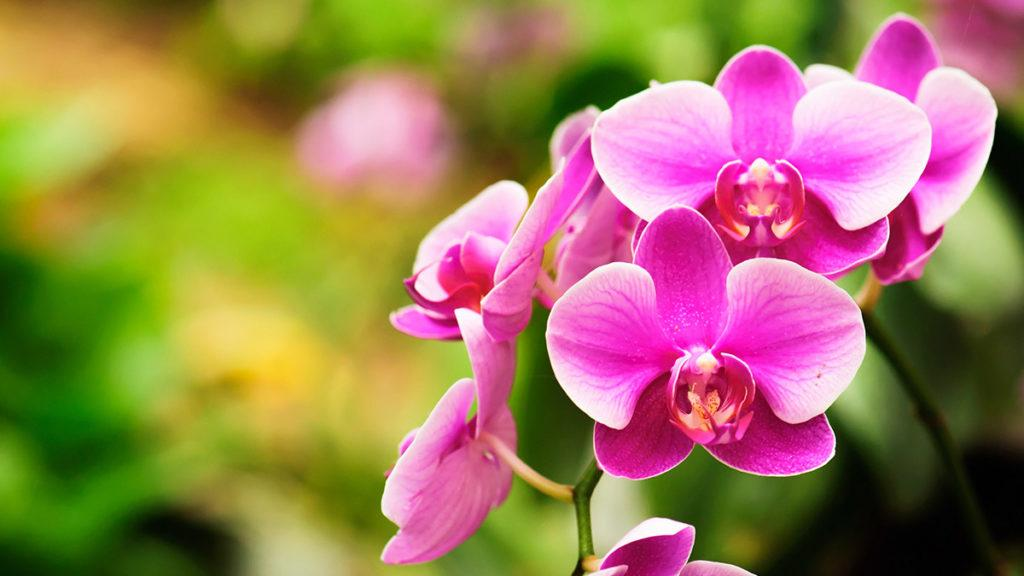orchid: (548, 211, 867, 480), (594, 46, 921, 273)
